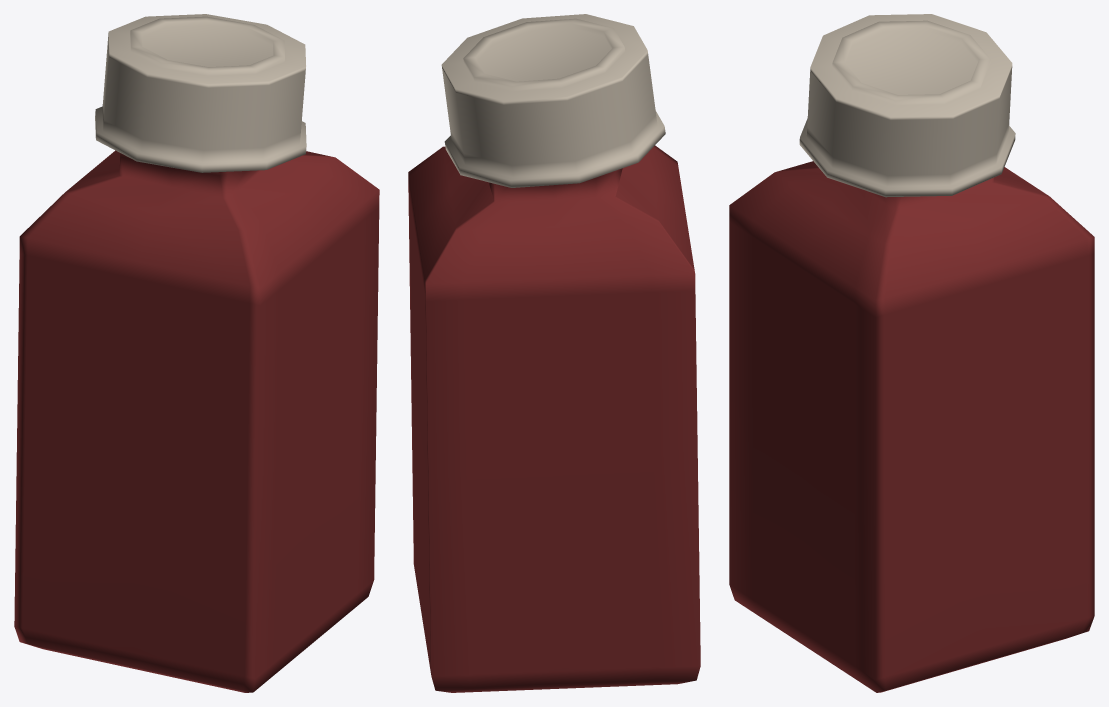
The model's file is Kitchen_set_Kitchen_set_Kitchen_set_Props_grp_Kitchen_set_North_grp_Kitchen_set_NorthWall_grp_Kitchen_set_OilBottle_2.obj.
3 views of the same model, side by side, from view 1: azimuth 30°, elevation 25°; view 2: azimuth 150°, elevation 25°; view 3: azimuth 270°, elevation 25° (orthographic). The views are drawn at different scales.
Visible parts, largest first — view 1: Kitchen_set_pCube641 NCCA_Export, NCCA_Export Kitchen_set_pCylinder563; view 2: Kitchen_set_pCube641 NCCA_Export, NCCA_Export Kitchen_set_pCylinder563; view 3: Kitchen_set_pCube641 NCCA_Export, NCCA_Export Kitchen_set_pCylinder563.
Part boxes in pixels (left/top/right/bottom): Kitchen_set_pCube641 NCCA_Export: left=14, top=150, right=379, bottom=692; NCCA_Export Kitchen_set_pCylinder563: left=95, top=14, right=306, bottom=172; Kitchen_set_pCube641 NCCA_Export: left=408, top=145, right=700, bottom=692; NCCA_Export Kitchen_set_pCylinder563: left=441, top=14, right=665, bottom=187; Kitchen_set_pCube641 NCCA_Export: left=729, top=161, right=1094, bottom=692; NCCA_Export Kitchen_set_pCylinder563: left=799, top=14, right=1015, bottom=197.
Size of the model in its own units: 0.5785 by 1 by 0.5692.
